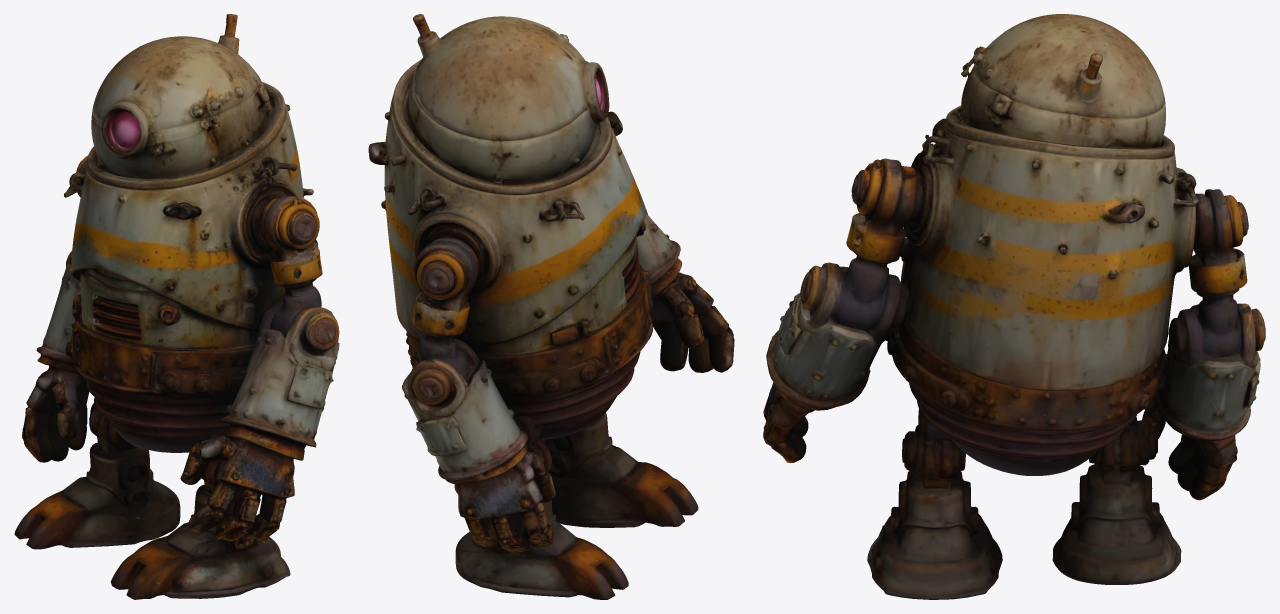
File: pixellabs-robot.glb
3 renders of one model, left to right at view 1: azimuth 30°, elevation 25°; view 2: azimuth 150°, elevation 25°; view 3: azimuth 270°, elevation 25°, orthographic. The views are drawn at different scales.
Visible parts, largest first — view 1: material; view 2: material; view 3: material.
Boxes of the visible parts, box(x1,y1,x2,y2) form: material: box(14, 14, 339, 599); material: box(368, 14, 734, 599); material: box(763, 14, 1265, 599).
Size of the model in its own units: 0.5236 by 0.9965 by 0.8093.
Materials: 1 (1 with a texture image).
